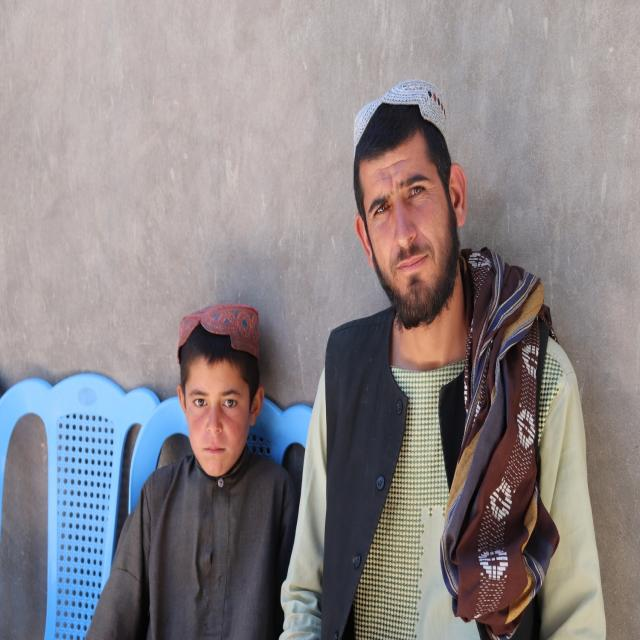hat: (354, 82, 446, 156), (176, 306, 260, 363)
